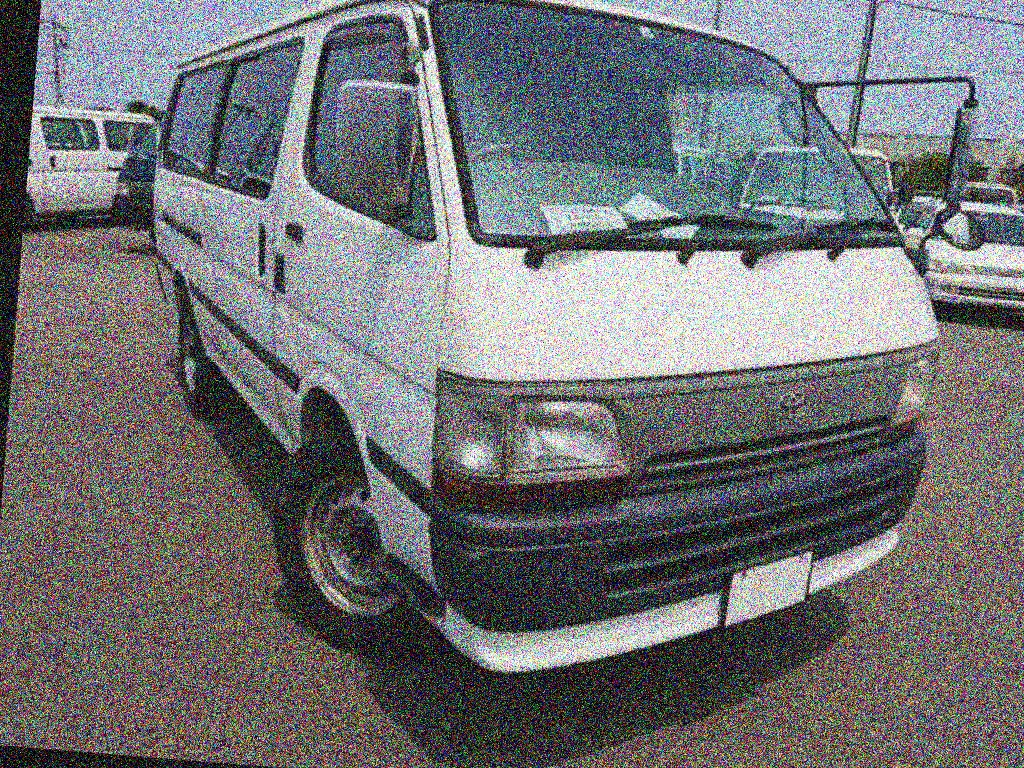van: (123, 0, 973, 687)
